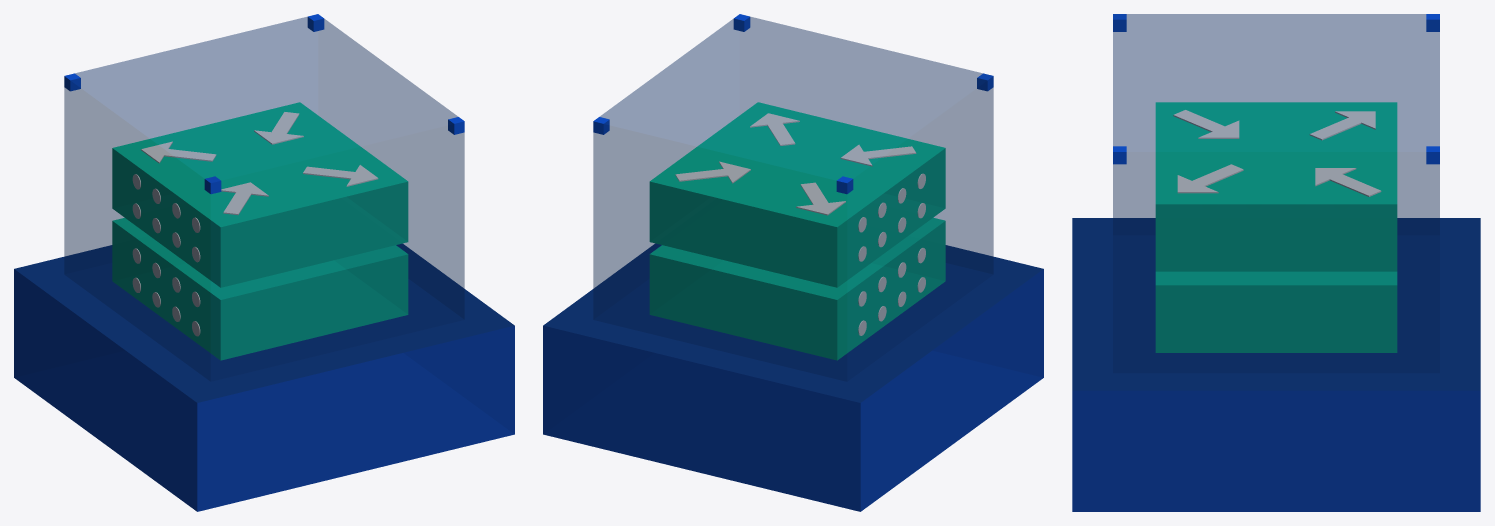
Rendered from coreswitch.FBX.
The picture shows the model from 3 angles, left to right: view 1: azimuth 30°, elevation 25°; view 2: azimuth 150°, elevation 25°; view 3: azimuth 270°, elevation 25°; orthographic projection. The views are drawn at different scales.
Parts seen in each view (by area): view 1: Box272, Box270, 对象407, Box268, Box271, 对象408, Rectangle006; view 2: Box272, Box270, 对象407, Box268, Box271, 对象408, Rectangle006; view 3: Box272, Box270, 对象407, 对象408, Box268, Box271, Rectangle006.
Boxes of the visible parts, x1,y1,x2,y2 form: Box272: (64, 17, 464, 381); Box270: (14, 269, 514, 511); 对象407: (14, 243, 514, 402); Box268: (112, 217, 408, 360); Box271: (112, 148, 408, 287); 对象408: (113, 102, 407, 227); Rectangle006: (141, 112, 378, 215); Box272: (593, 17, 993, 381); Box270: (543, 269, 1043, 511); 对象407: (543, 243, 1043, 402); Box268: (649, 217, 945, 360); Box271: (649, 148, 945, 287); 对象408: (650, 102, 944, 227); Rectangle006: (675, 113, 916, 215); Box272: (1113, 14, 1439, 372); Box270: (1072, 390, 1480, 511); 对象407: (1072, 218, 1480, 390); 对象408: (1155, 102, 1397, 204); Box268: (1155, 271, 1397, 352); Box271: (1155, 204, 1397, 271); Rectangle006: (1173, 110, 1381, 196).
Bounding box in the file's own units: 672 × 622 × 672.
